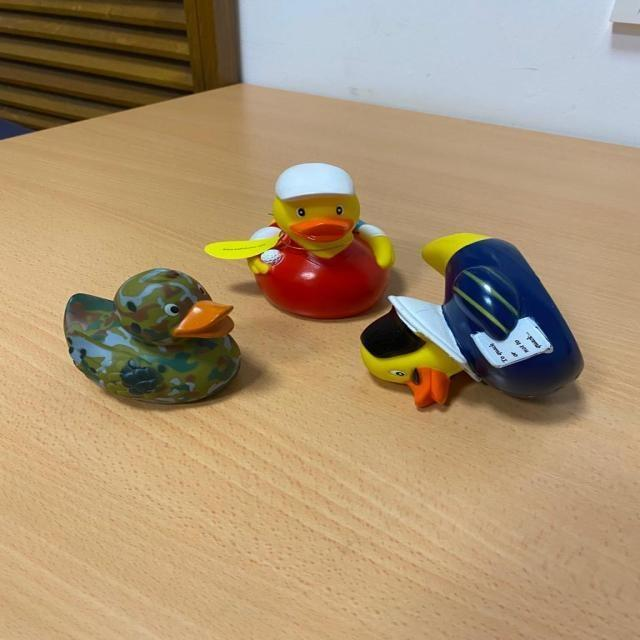rubber-duck: (360, 238, 581, 405), (204, 162, 392, 316), (63, 267, 238, 401)
